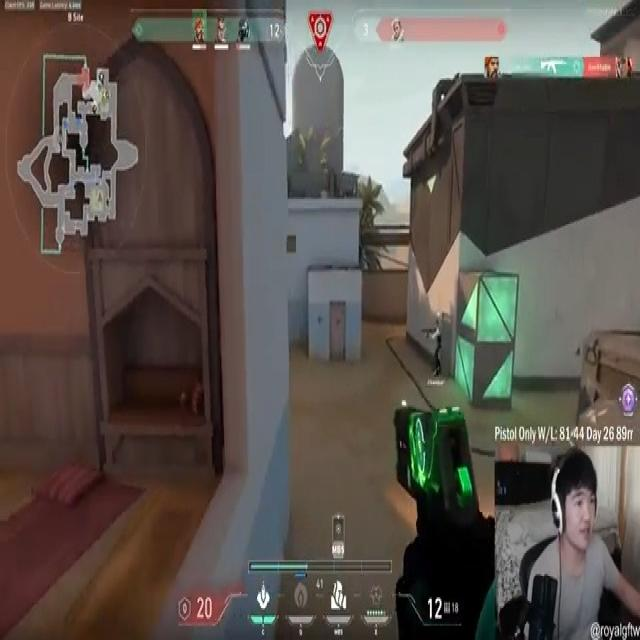ally: (426, 319, 447, 381)
